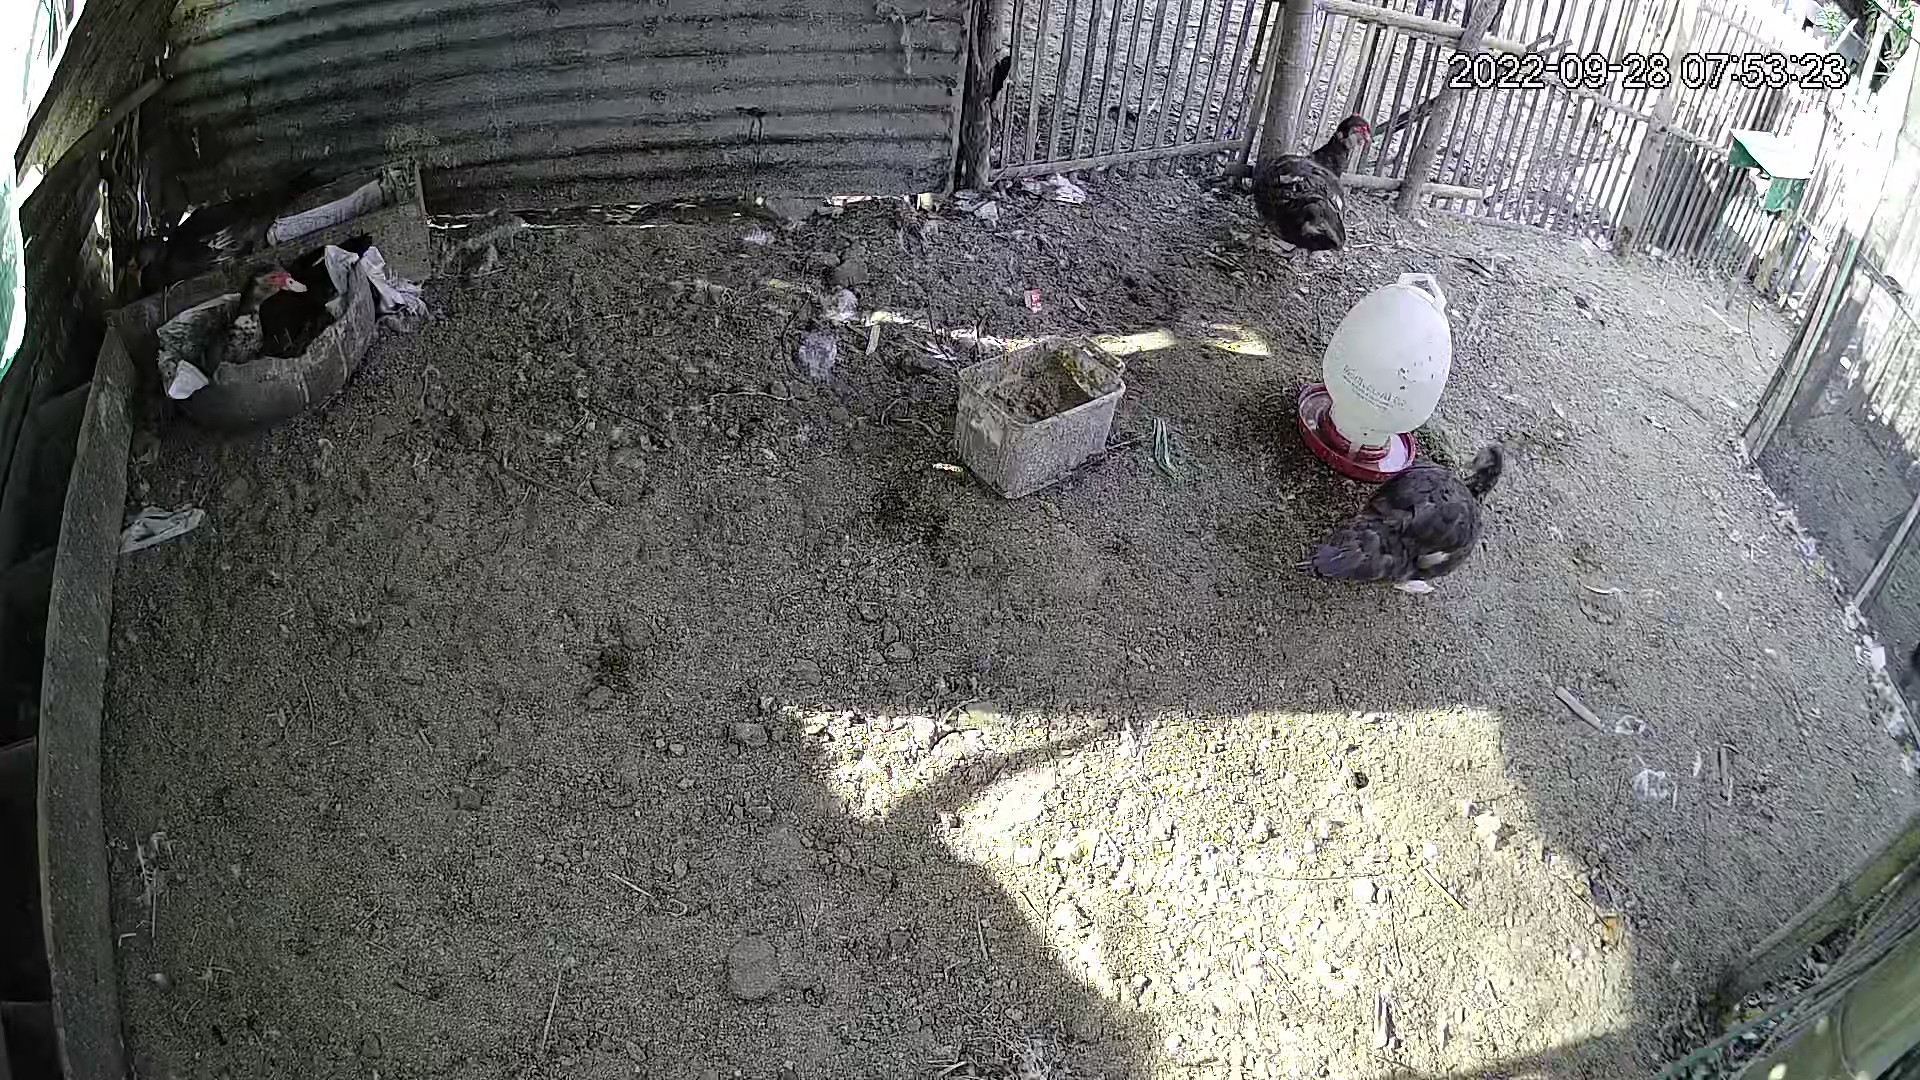Mengeram: (121, 161, 425, 418)
